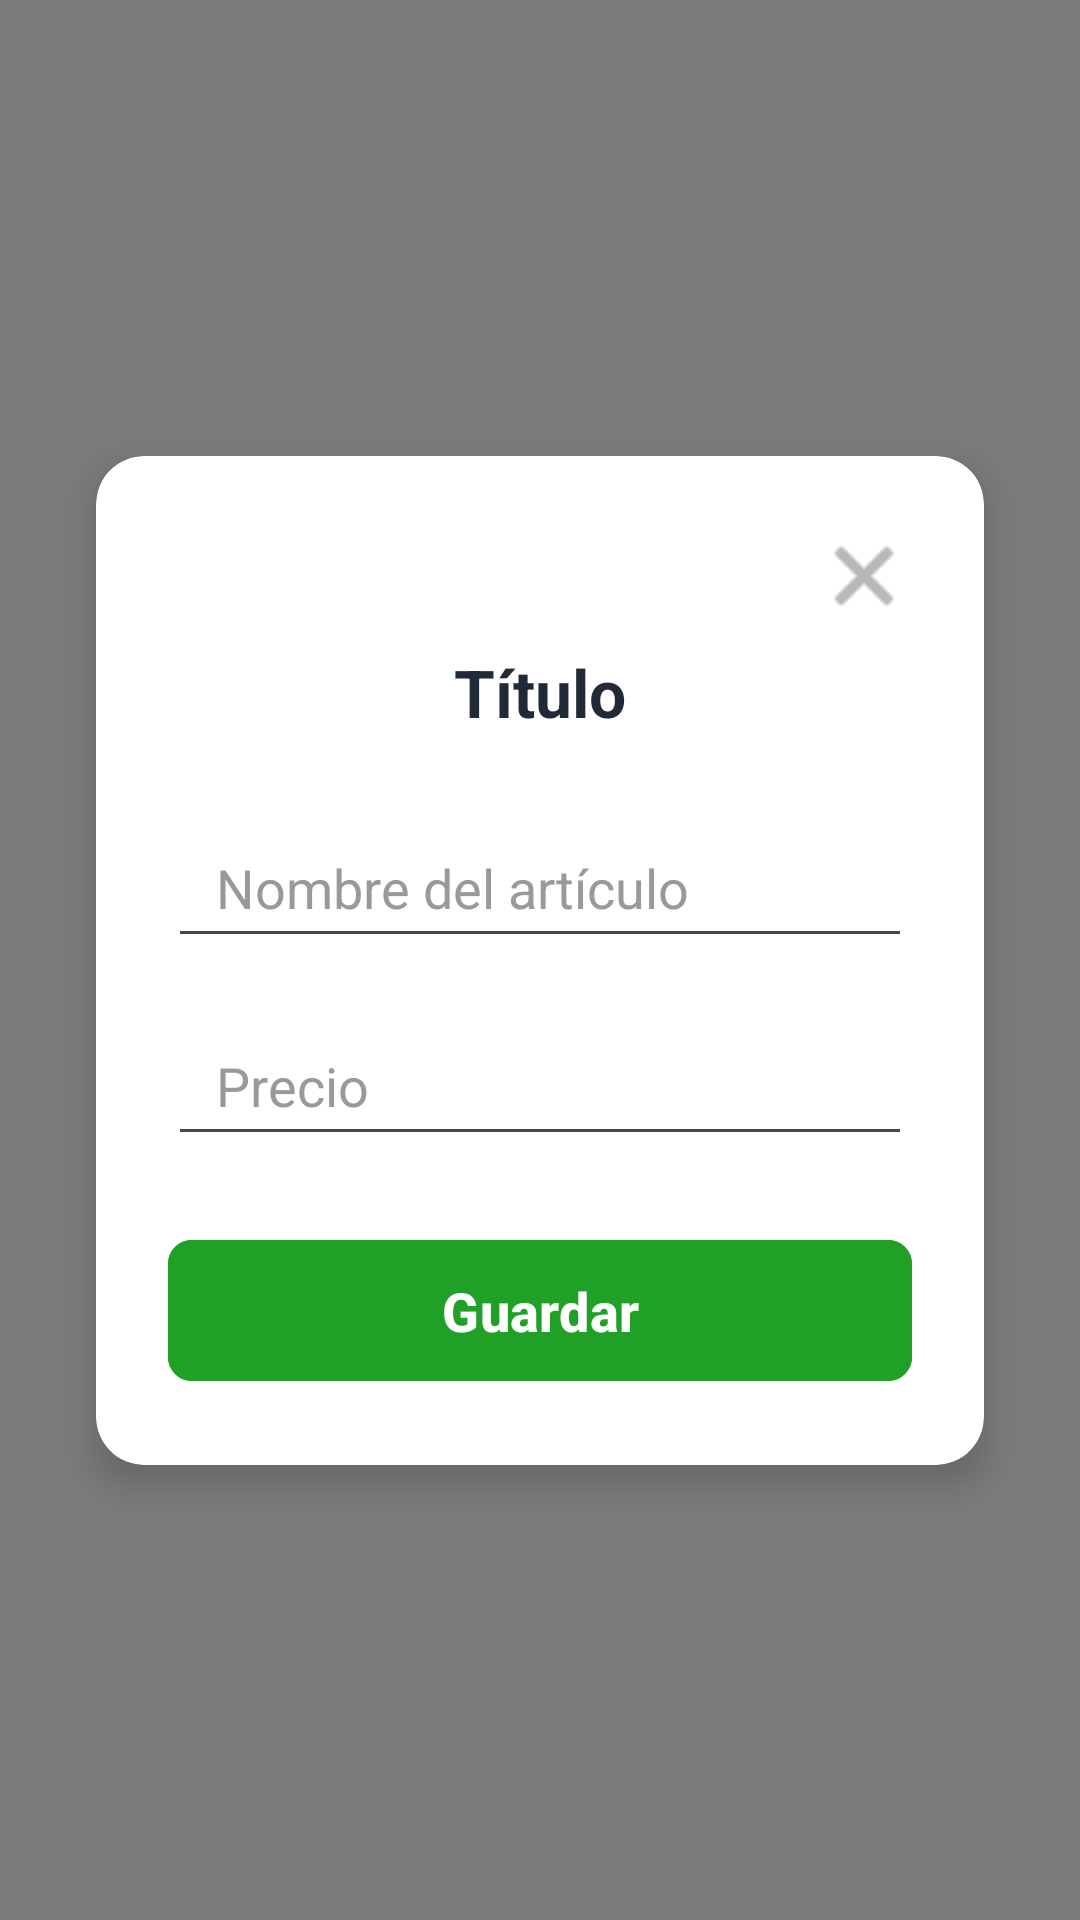

Icon bounding boxes for this 1080px x 1920px phone screenshot, format box(x1, y1, x2, y2):
close clear cancel: box(835, 547, 893, 605)
